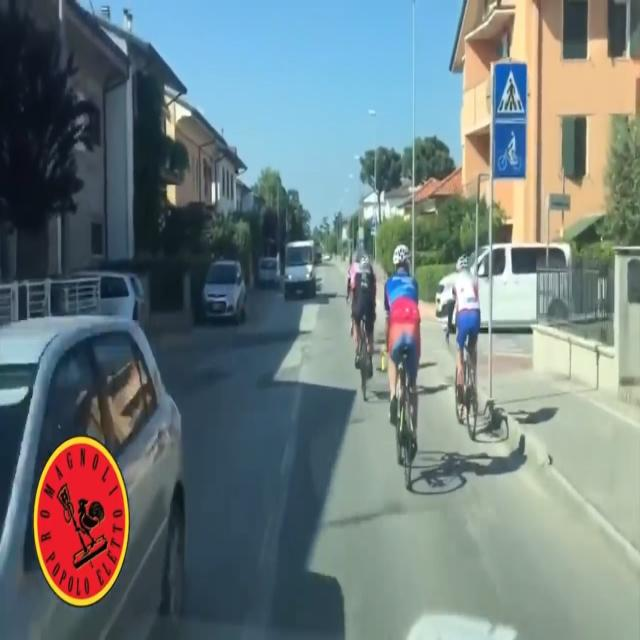Pedestrian crosswalk: (493, 58, 529, 121)
